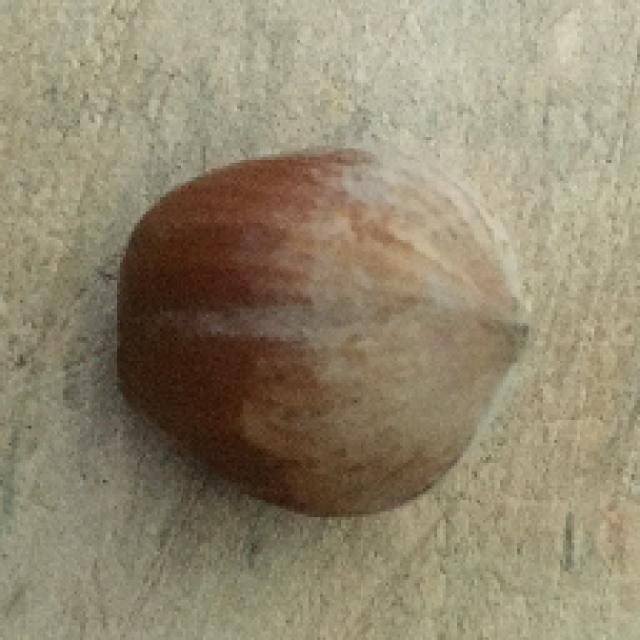qualityHazelnut: (113, 146, 534, 520)
